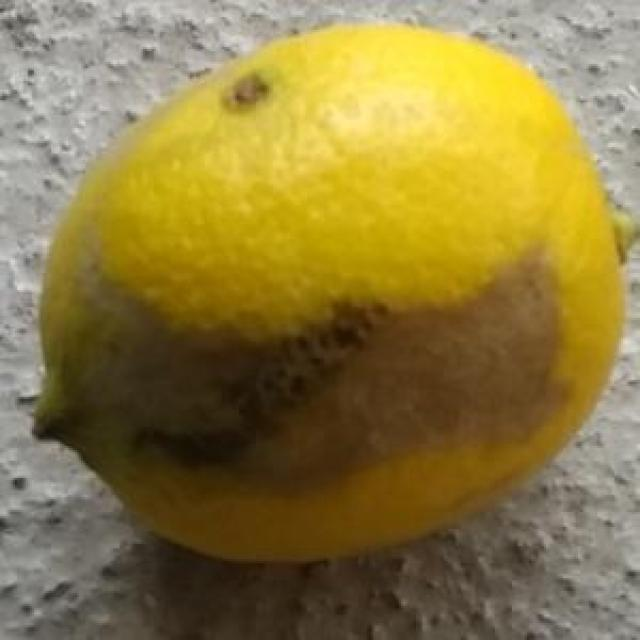lemon: (29, 17, 630, 558)
